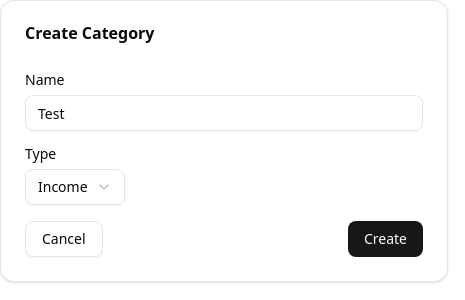
Test: CategoryForm › should disable inputs during loading
What coordinates should you click on to do the following:
click the button "Create"
I would click on:
 (385, 239)
Its box is x1=348 y1=221 x2=423 y2=257.
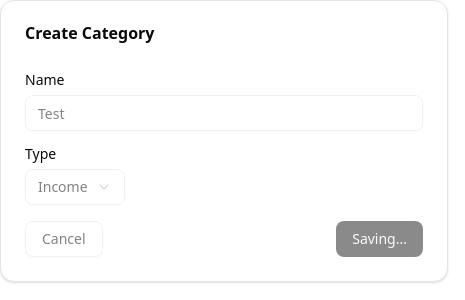
Expected: the button "Saving..." is disabled, x1=336 y1=221 x2=423 y2=257
Expected: the field labelled "Name" is disabled, x1=25 y1=95 x2=423 y2=131
Expected: the button "Cancel" is disabled, x1=25 y1=221 x2=103 y2=257
